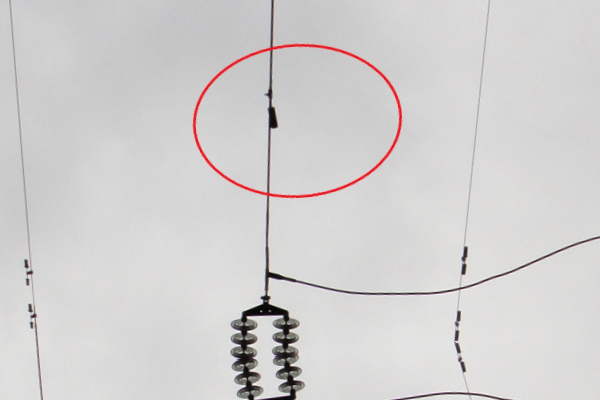damper: (454, 343, 467, 373), (451, 308, 463, 340), (26, 302, 39, 331), (23, 258, 34, 287), (459, 246, 469, 276)
damper_defect: (263, 84, 279, 130)
